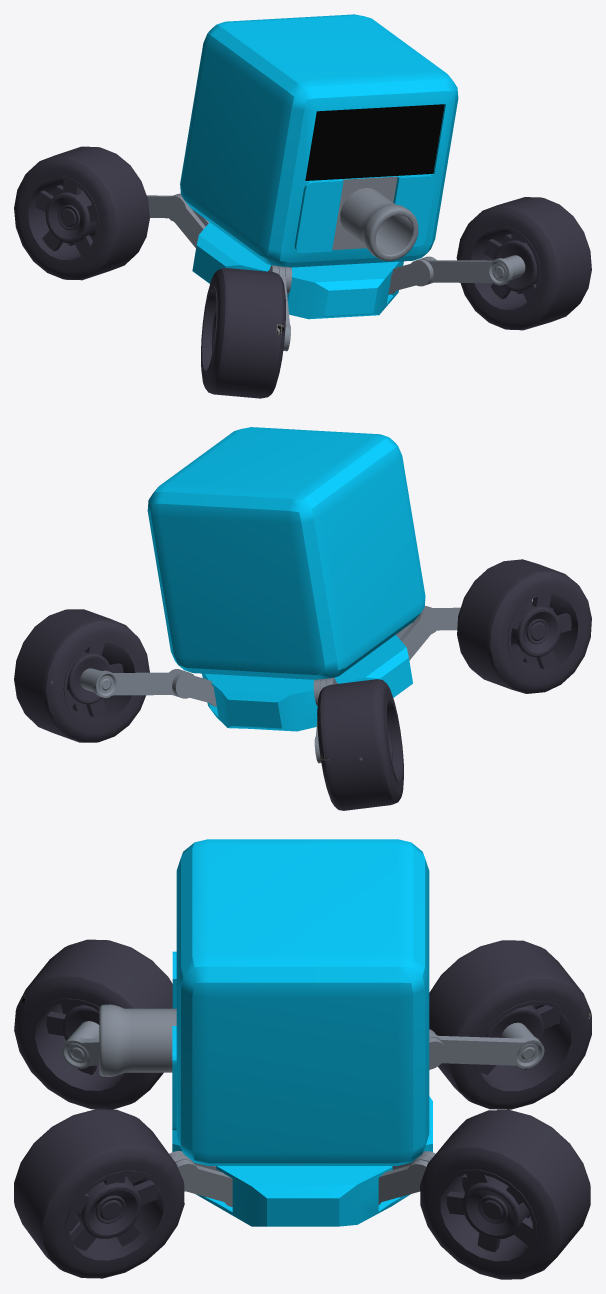
The model's file is Tank5.fbx.
3 views of the same model, one above another, from view 1: azimuth 30°, elevation 25°; view 2: azimuth 150°, elevation 25°; view 3: azimuth 270°, elevation 25° (orthographic). The views are drawn at different scales.
Parts seen in each view (by area): view 1: face6; view 2: face6; view 3: face6.
Part boxes in pixels (x1,y1,x2,y2): face6: (14,14,591,398); face6: (14,427,591,810); face6: (14,839,591,1279).
Size of the model in its own units: 62.61 by 40.85 by 66.63.
